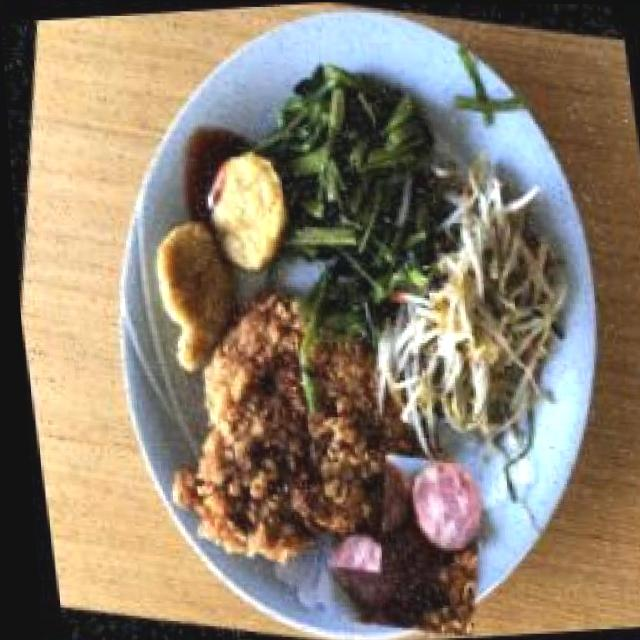chicken_nuggets: (120, 131, 313, 390)
chinese_sausage: (296, 434, 497, 640)
fried_chicken: (152, 263, 423, 582)
mung_bean_sprouts: (351, 162, 600, 458)
water_spinach: (248, 51, 460, 296)
